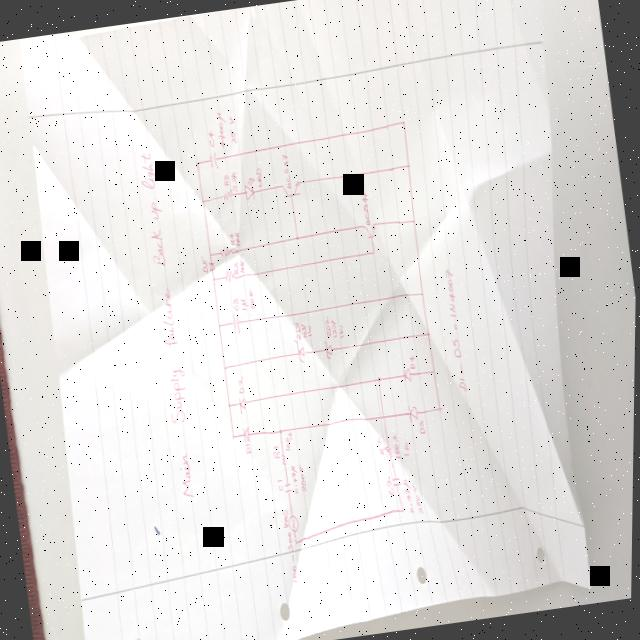capacitor: (231, 312, 242, 336), (208, 150, 220, 172), (391, 476, 403, 488), (284, 482, 294, 496)
crossover: (382, 414, 387, 422)
diode: (241, 176, 257, 203), (294, 339, 308, 366), (407, 404, 420, 425), (323, 339, 335, 360), (402, 366, 412, 384), (239, 398, 247, 417), (243, 426, 251, 444), (207, 261, 215, 274)
junction: (400, 118, 406, 130), (277, 428, 285, 437), (437, 405, 444, 414), (377, 375, 383, 385), (405, 161, 411, 171), (431, 368, 437, 377), (426, 329, 432, 338), (371, 250, 377, 258), (207, 252, 213, 259), (420, 290, 425, 298), (411, 218, 416, 226), (401, 507, 406, 515), (295, 539, 300, 547), (211, 276, 216, 284), (223, 364, 228, 372), (231, 434, 236, 442), (201, 198, 206, 206), (195, 160, 200, 168), (295, 235, 300, 243), (227, 403, 232, 410), (218, 323, 222, 330)
resistor: (217, 246, 235, 260), (384, 445, 395, 466), (224, 269, 236, 284), (221, 190, 234, 203), (282, 452, 288, 470)
source: (288, 514, 300, 534)
text: (132, 152, 205, 502), (440, 268, 470, 394), (281, 509, 300, 585), (214, 112, 229, 150), (402, 478, 415, 516), (411, 482, 425, 517), (359, 190, 372, 227), (280, 154, 292, 190), (290, 464, 302, 496), (227, 115, 237, 146), (298, 464, 308, 494), (392, 434, 402, 461), (284, 432, 295, 453), (229, 171, 239, 194), (324, 316, 333, 341), (247, 288, 256, 312), (385, 475, 394, 498), (236, 376, 246, 396), (254, 168, 263, 190), (377, 436, 386, 458), (200, 255, 209, 276), (294, 322, 303, 342), (330, 320, 338, 340), (207, 130, 215, 149), (301, 322, 309, 341), (240, 298, 250, 313), (402, 441, 410, 458), (338, 324, 346, 341), (231, 298, 240, 313), (228, 232, 236, 248), (233, 232, 241, 248), (238, 260, 246, 276), (409, 355, 417, 371), (418, 420, 426, 436), (277, 479, 285, 494), (273, 446, 281, 460), (222, 174, 230, 188), (306, 324, 313, 338), (245, 444, 252, 456), (233, 262, 239, 276)
transistor: (281, 180, 301, 200), (361, 222, 377, 242)
